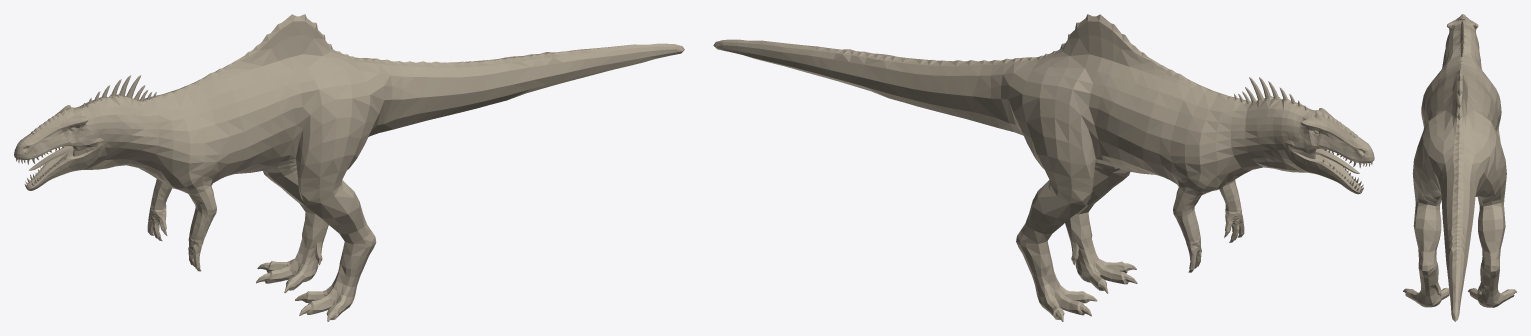
Rendered from becklespinax.glb.
The picture shows the model from 3 angles, left to right: view 1: azimuth 30°, elevation 25°; view 2: azimuth 150°, elevation 25°; view 3: azimuth 270°, elevation 25°; orthographic projection. The views are drawn at different scales.
Parts seen in each view (by area): view 1: Brunette_Brunette_0; view 2: Brunette_Brunette_0; view 3: Brunette_Brunette_0.
Part boxes in pixels (box(x1,y1,x2,y2)): Brunette_Brunette_0: box(14, 14, 684, 321); Brunette_Brunette_0: box(713, 14, 1374, 321); Brunette_Brunette_0: box(1403, 14, 1516, 321).
Size of the model in its own units: 15.46 by 6.31 by 2.91.
